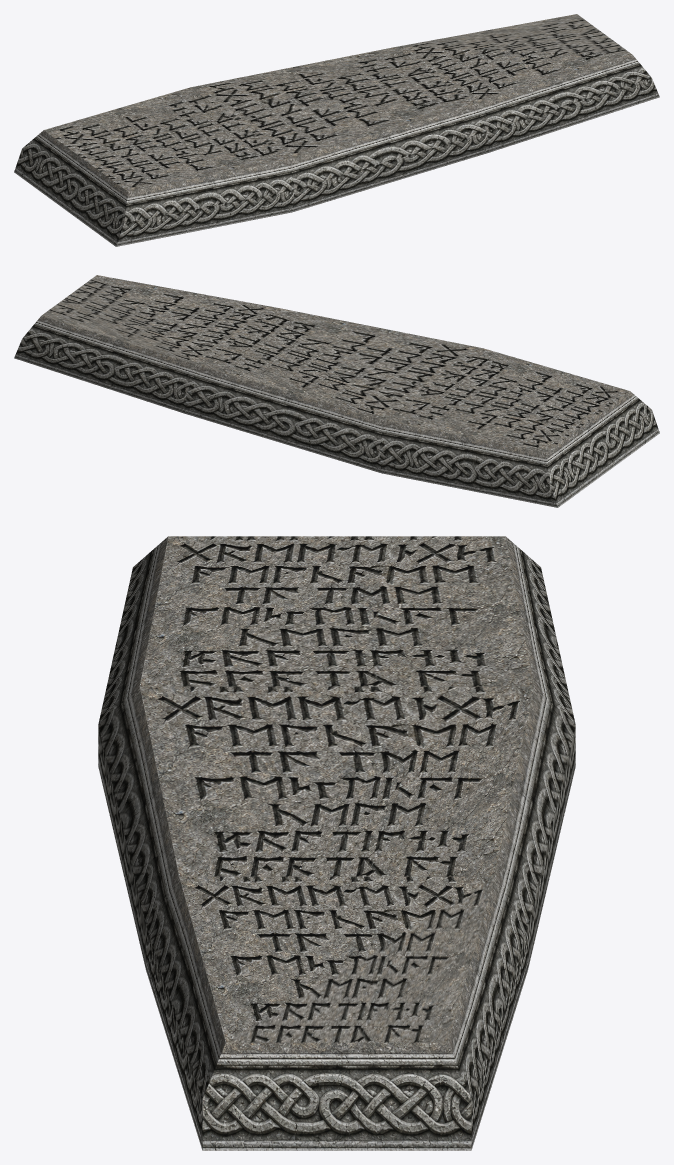
Rendered from mm9_deco_coffinraised_lid.glb.
3 renders of one model, top to bottom at view 1: azimuth 30°, elevation 25°; view 2: azimuth 150°, elevation 25°; view 3: azimuth 270°, elevation 25°, orthographic. The views are drawn at different scales.
Parts seen in each view (by area): view 1: Coffinraised; view 2: Coffinraised; view 3: Coffinraised.
Boxes of the visible parts, x1,y1,x2,y2 form: Coffinraised: [14, 14, 659, 246]; Coffinraised: [14, 275, 659, 507]; Coffinraised: [98, 536, 575, 1150].
Size of the model in its own units: 3.82 by 0.283 by 1.41.
1 material, 1 textured.
